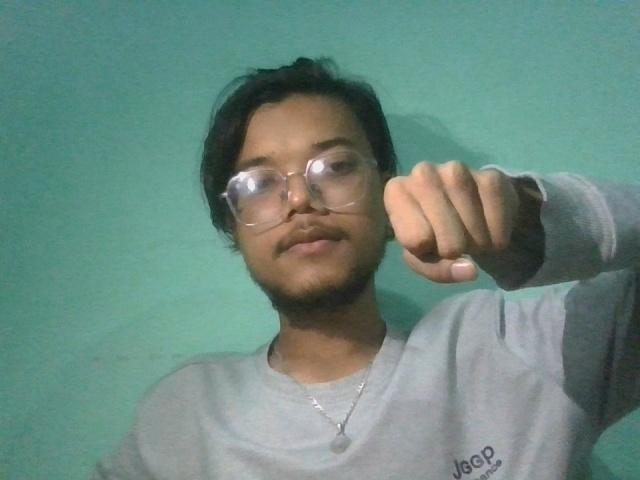Yes: (371, 149, 536, 296)
